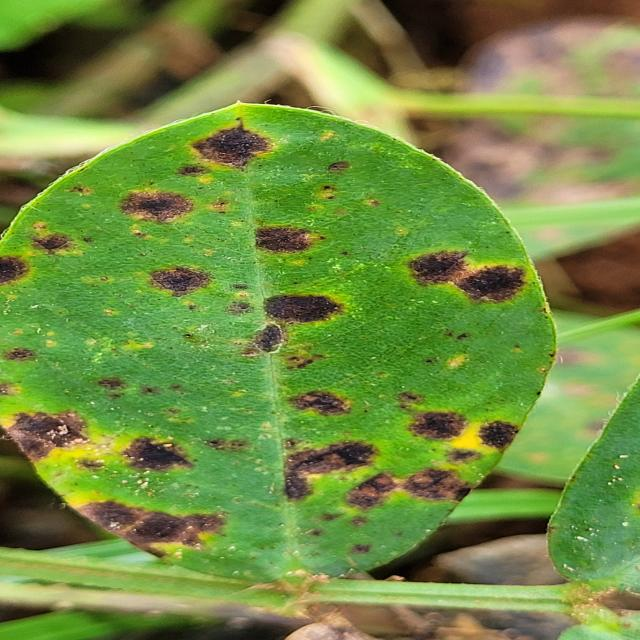Ground nut_tikka leaf spot: (1, 101, 560, 588)
